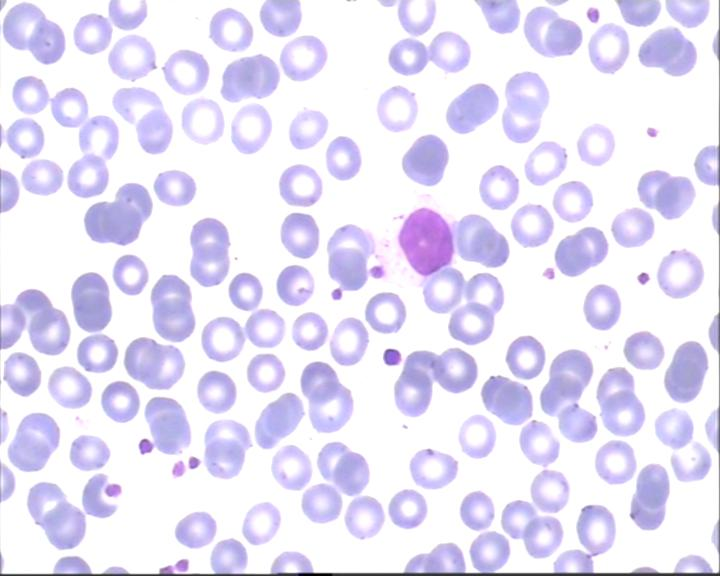mono: (379, 195, 462, 284)
